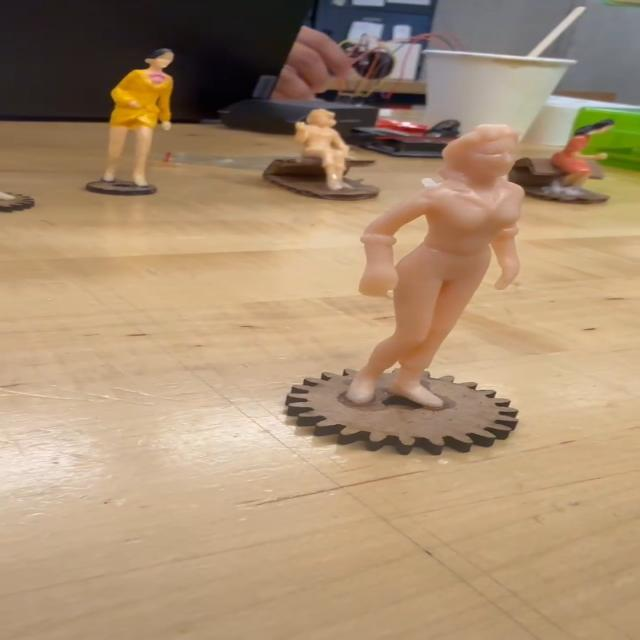Unauthorized: (303, 124, 536, 425)
